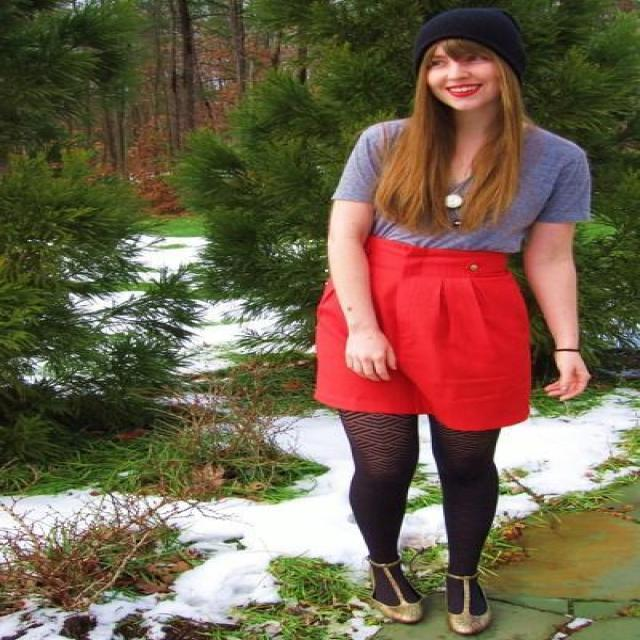hat: (432, 17, 541, 79)
shirt: (331, 120, 592, 257)
shoe: (365, 584, 419, 620)
skirt: (312, 239, 536, 430)
